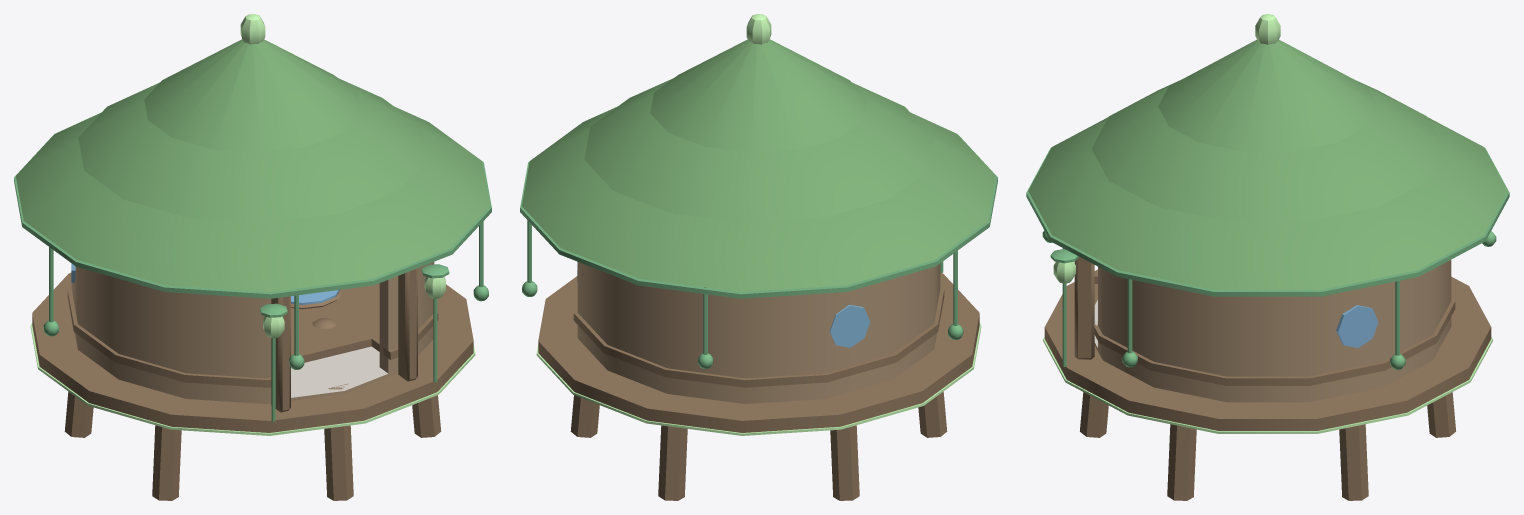
Rendered from UmbriaChoza.fbx.
3 renders of one model, left to right at view 1: azimuth 30°, elevation 25°; view 2: azimuth 150°, elevation 25°; view 3: azimuth 270°, elevation 25°, orthographic.
Visible parts, largest first — view 1: UmbriaChoza_Base_Techo, UmbriaChoza_Base_Metal, UmbriaChoza_Base_Cuerpo, UmbriaChoza_Base_Hoja, UmbriaChoza_Base_Luz, UmbriaChoza_Base_Forro; view 2: UmbriaChoza_Base_Techo, UmbriaChoza_Base_Cuerpo, UmbriaChoza_Base_Metal, UmbriaChoza_Base_Hoja, UmbriaChoza_Base_Luz, UmbriaChoza_Base_Cristal; view 3: UmbriaChoza_Base_Techo, UmbriaChoza_Base_Cuerpo, UmbriaChoza_Base_Metal, UmbriaChoza_Base_Hoja, UmbriaChoza_Base_Luz, UmbriaChoza_Base_Cristal.
Boxes of the visible parts, x1=… form: UmbriaChoza_Base_Techo: x1=16, y1=39, x2=489, y2=291; UmbriaChoza_Base_Metal: x1=32, y1=268, x2=473, y2=500; UmbriaChoza_Base_Cuerpo: x1=71, y1=262, x2=434, y2=403; UmbriaChoza_Base_Hoja: x1=14, y1=135, x2=491, y2=421; UmbriaChoza_Base_Luz: x1=30, y1=14, x2=475, y2=435; UmbriaChoza_Base_Forro: x1=291, y1=346, x2=387, y2=397; UmbriaChoza_Base_Techo: x1=522, y1=39, x2=995, y2=291; UmbriaChoza_Base_Cuerpo: x1=577, y1=262, x2=940, y2=403; UmbriaChoza_Base_Metal: x1=538, y1=273, x2=979, y2=500; UmbriaChoza_Base_Hoja: x1=520, y1=135, x2=997, y2=368; UmbriaChoza_Base_Luz: x1=536, y1=14, x2=981, y2=435; UmbriaChoza_Base_Cristal: x1=577, y1=262, x2=870, y2=347; UmbriaChoza_Base_Techo: x1=1028, y1=39, x2=1507, y2=289; UmbriaChoza_Base_Cuerpo: x1=1094, y1=260, x2=1451, y2=402; UmbriaChoza_Base_Metal: x1=1044, y1=256, x2=1491, y2=500; UmbriaChoza_Base_Hoja: x1=1026, y1=148, x2=1509, y2=369; UmbriaChoza_Base_Luz: x1=1043, y1=14, x2=1492, y2=433; UmbriaChoza_Base_Cristal: x1=1336, y1=305, x2=1378, y2=347.
Size of the model in its own units: 2841 by 2778 by 2900.
